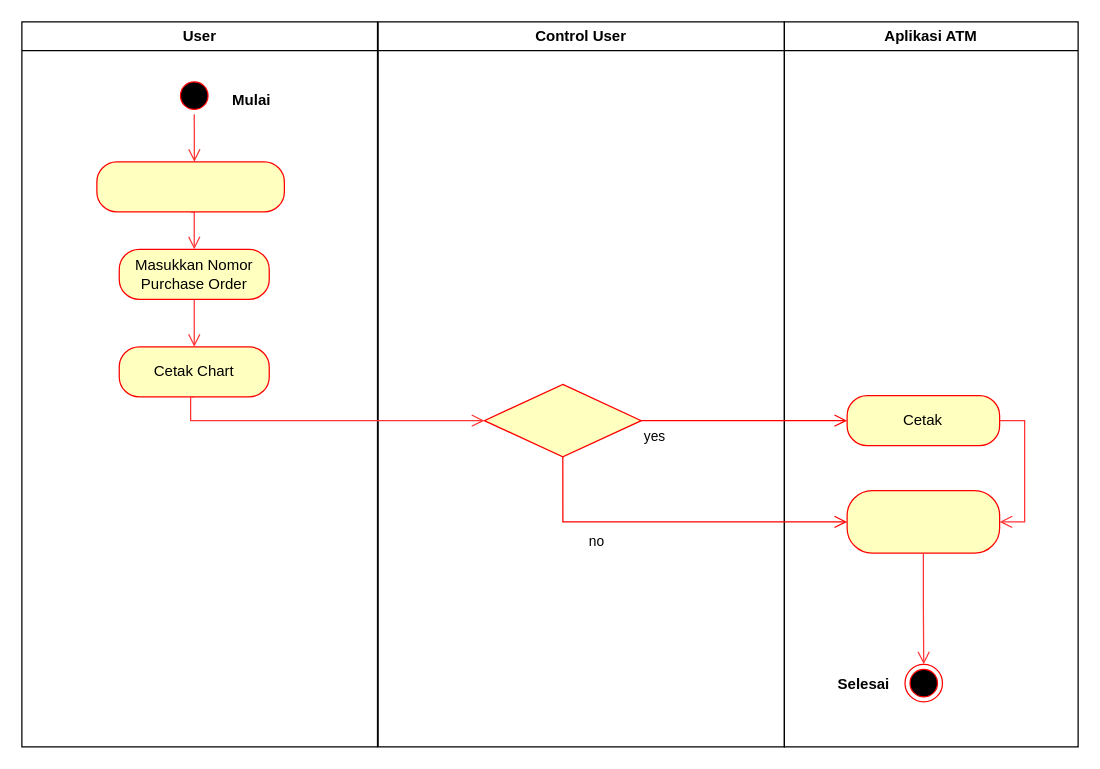
Image size: 1100x769. Some labels were removed from this diagram. The centre of each missing label's shape, as x and y in pixels:
"Menu Bar Chart Material by Purchase Order" belongs at (x=923, y=521).
"Print pdf" belongs at (x=562, y=420).
"View Bar Chart Material by Purchase Order" belongs at (x=190, y=186).
